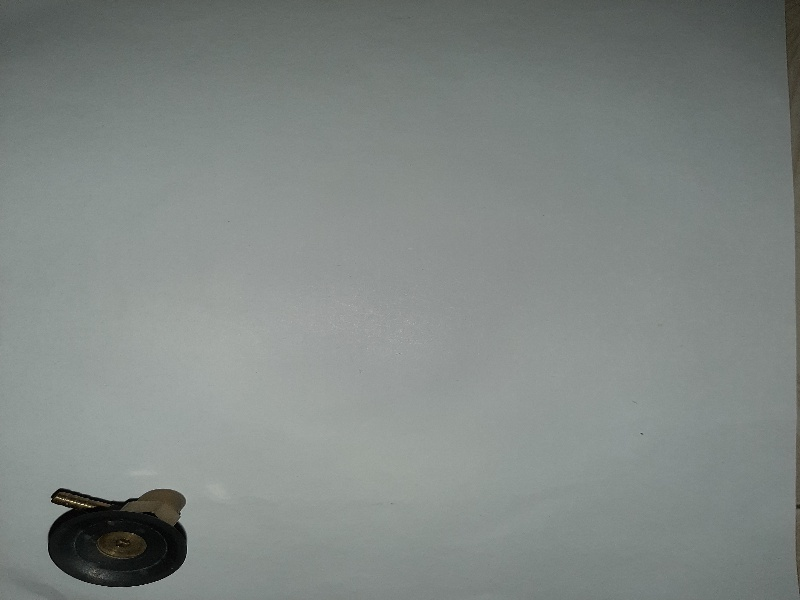Joint Hold: (42, 476, 194, 590)
